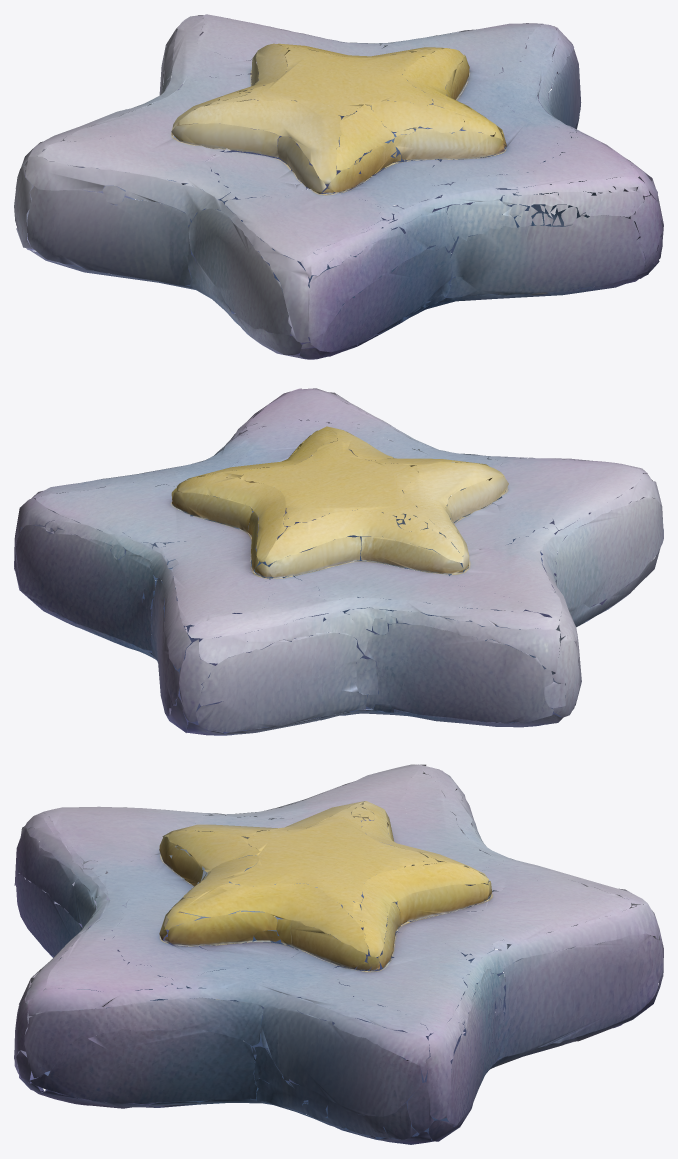
File: Pastel Puffy Stars.glb
The picture shows the model from 3 angles, top to bottom: view 1: azimuth 30°, elevation 25°; view 2: azimuth 150°, elevation 25°; view 3: azimuth 270°, elevation 25°; orthographic projection. The views are drawn at different scales.
Parts seen in each view (by area): view 1: texture_mapping; view 2: texture_mapping; view 3: texture_mapping.
Part boxes in pixels (bbox=[...]): texture_mapping: bbox=[14, 14, 663, 359]; texture_mapping: bbox=[14, 388, 663, 735]; texture_mapping: bbox=[14, 764, 663, 1144].
Size of the model in its own units: 0.9979 by 0.2684 by 0.9437.
1 material, 1 textured.
